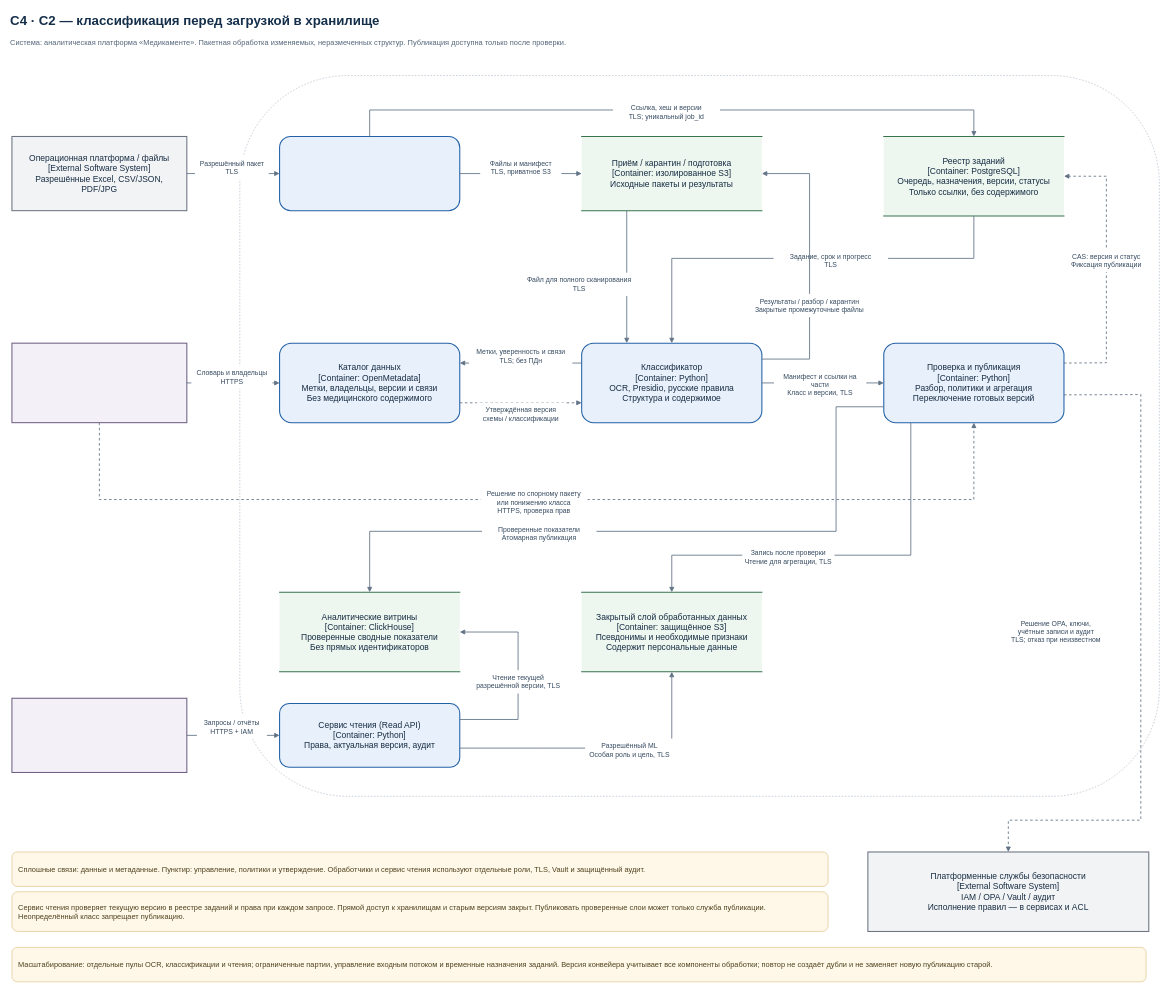
Image size: 1169x991. Some labels were removed from this diagram. Each missing label, with the box of its shape:
Аналитик / BI [Person] Только разрешённые агрегаты: (11, 697, 187, 773)
Владелец данных [Person] Словарь, разбор спорных пакетов: (11, 342, 187, 423)
Граница аналитической платформы · РФ · разделённые роли, сети и ключи зон: (239, 75, 1159, 796)
Приём и оркестрация [Container: Apache NiFi] Источник, хеш, схема и цель: (279, 136, 460, 211)
